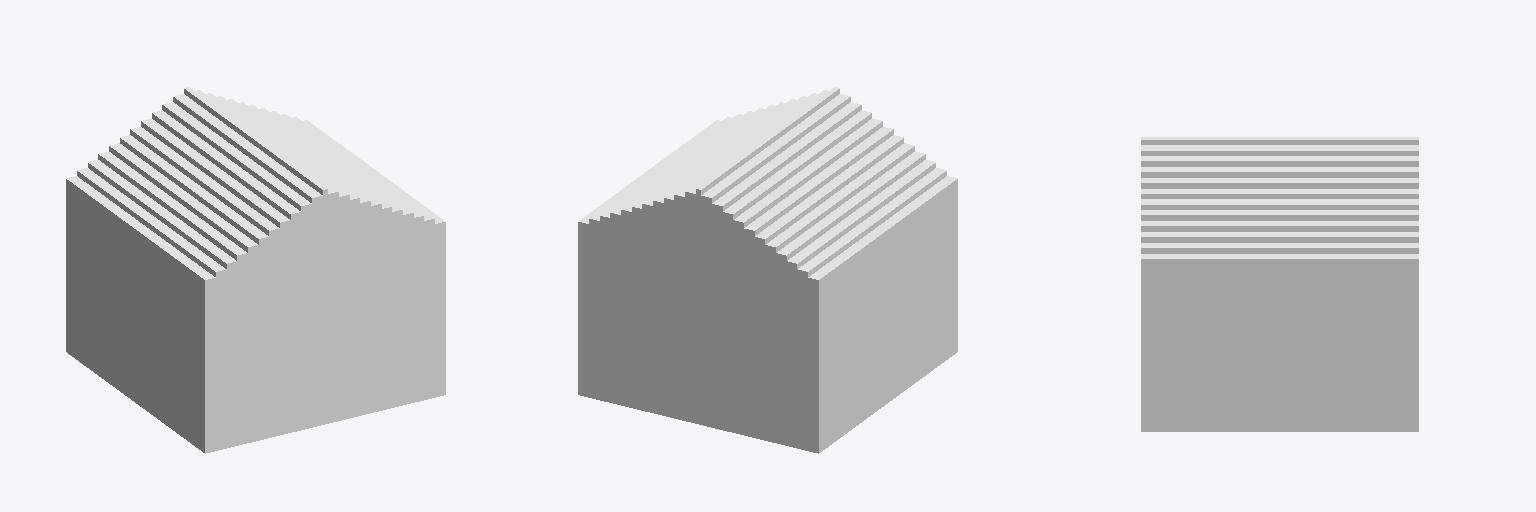
File: Hus 1.obj
The picture shows the model from 3 angles: view 1: azimuth 30°, elevation 25°; view 2: azimuth 150°, elevation 25°; view 3: azimuth 270°, elevation 25°; orthographic projection.
Bounding box in the file's own units: 45 × 42 × 45.